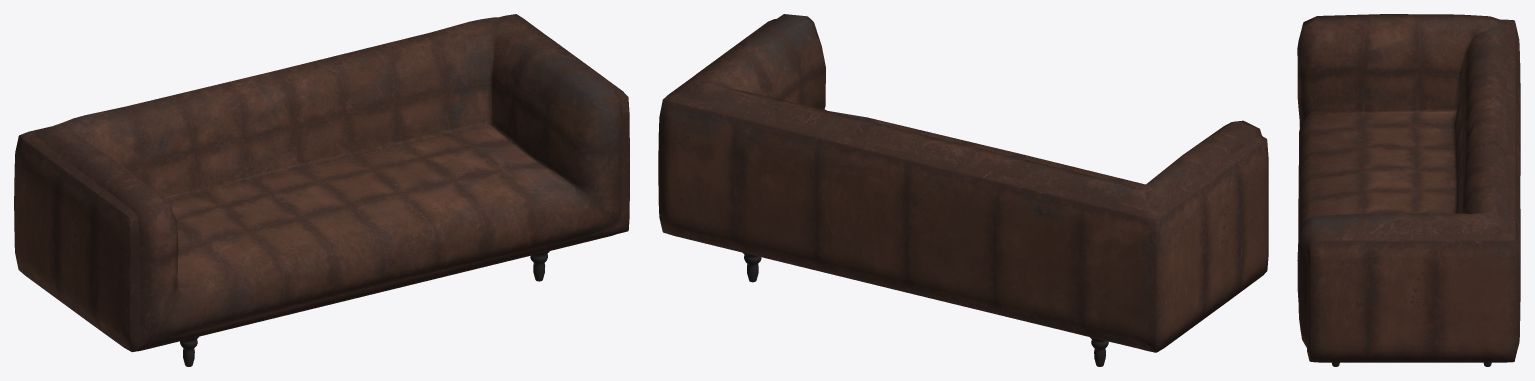
Rendered from sofa.glb.
The picture shows the model from 3 angles, left to right: view 1: azimuth 30°, elevation 25°; view 2: azimuth 150°, elevation 25°; view 3: azimuth 270°, elevation 25°; orthographic projection. The views are drawn at different scales.
Visible parts, largest first — view 1: Sofa; view 2: Sofa; view 3: Sofa.
Part boxes in pixels (x1,y1,x2,y2): Sofa: (14, 14, 629, 366); Sofa: (658, 14, 1268, 366); Sofa: (1297, 14, 1520, 366).
Size of the model in its own units: 2.19 by 0.781 by 0.9179.
1 material, 1 textured.
